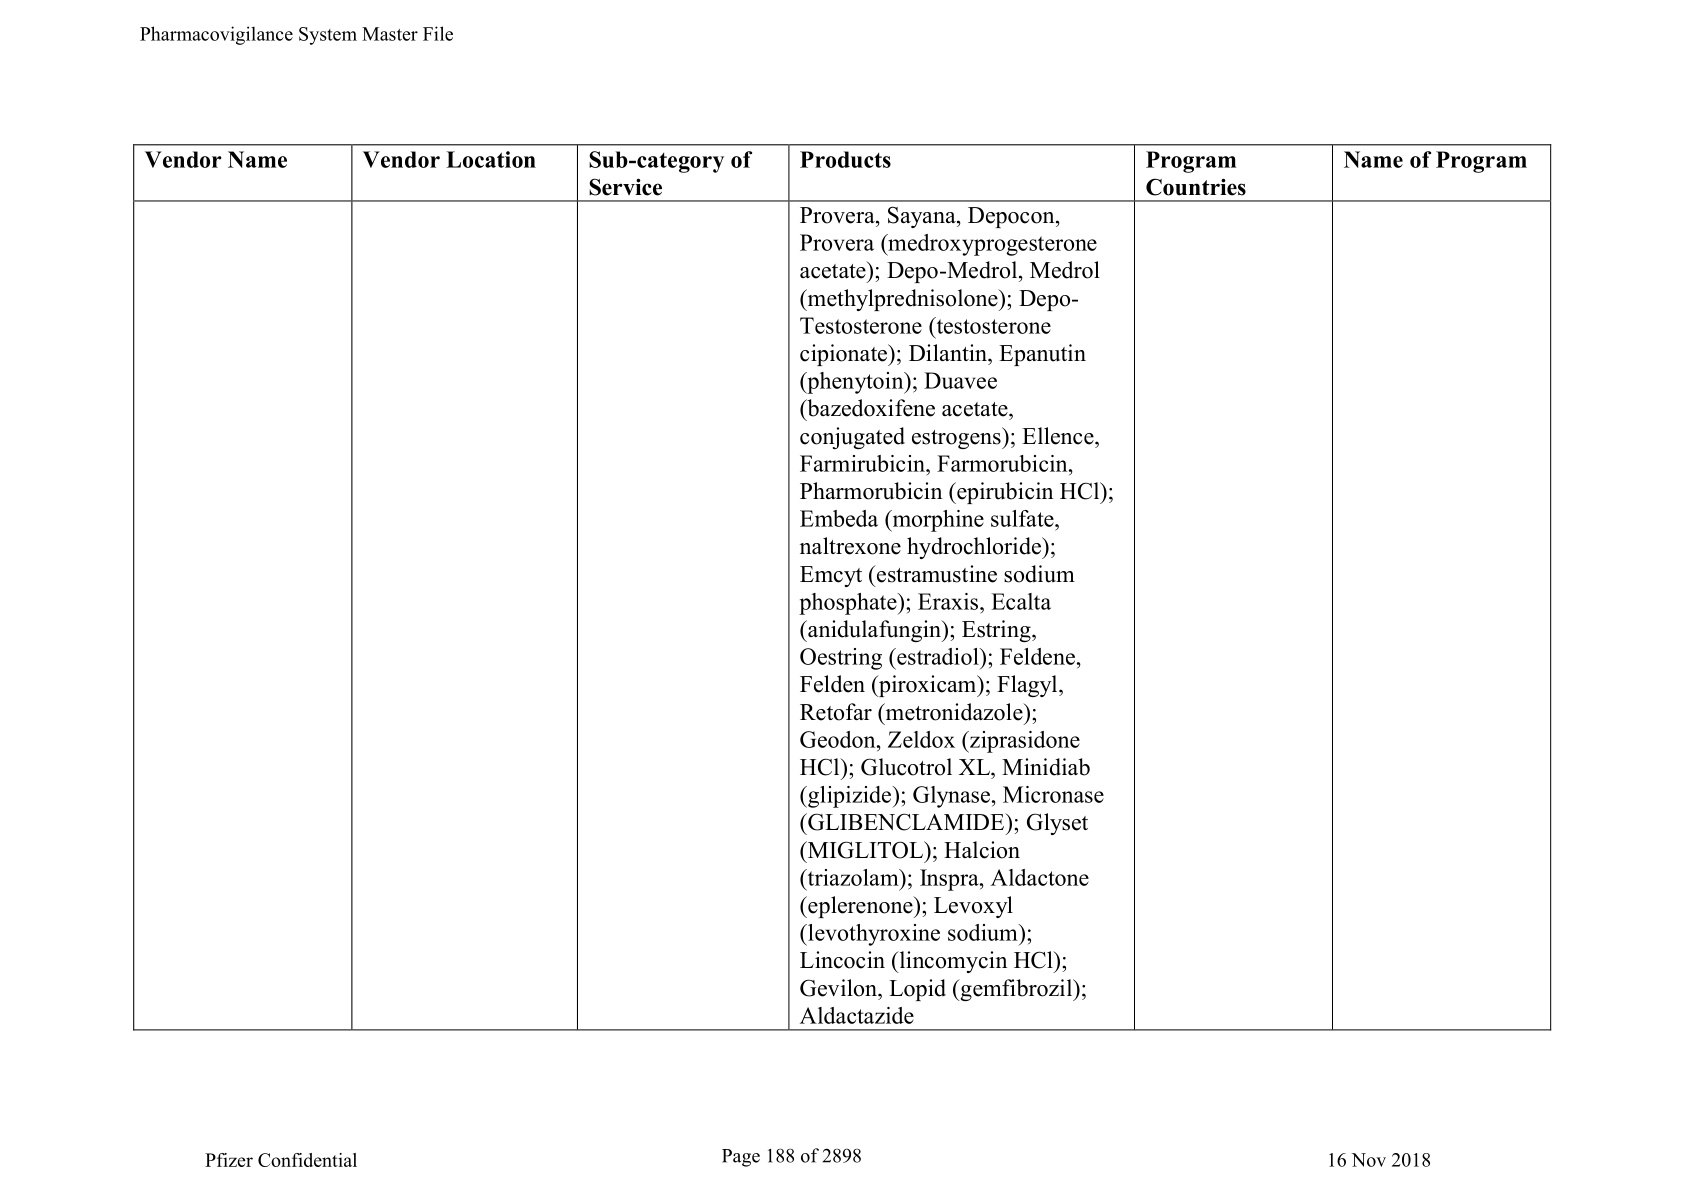full_lined: (131, 144, 1552, 1031)
